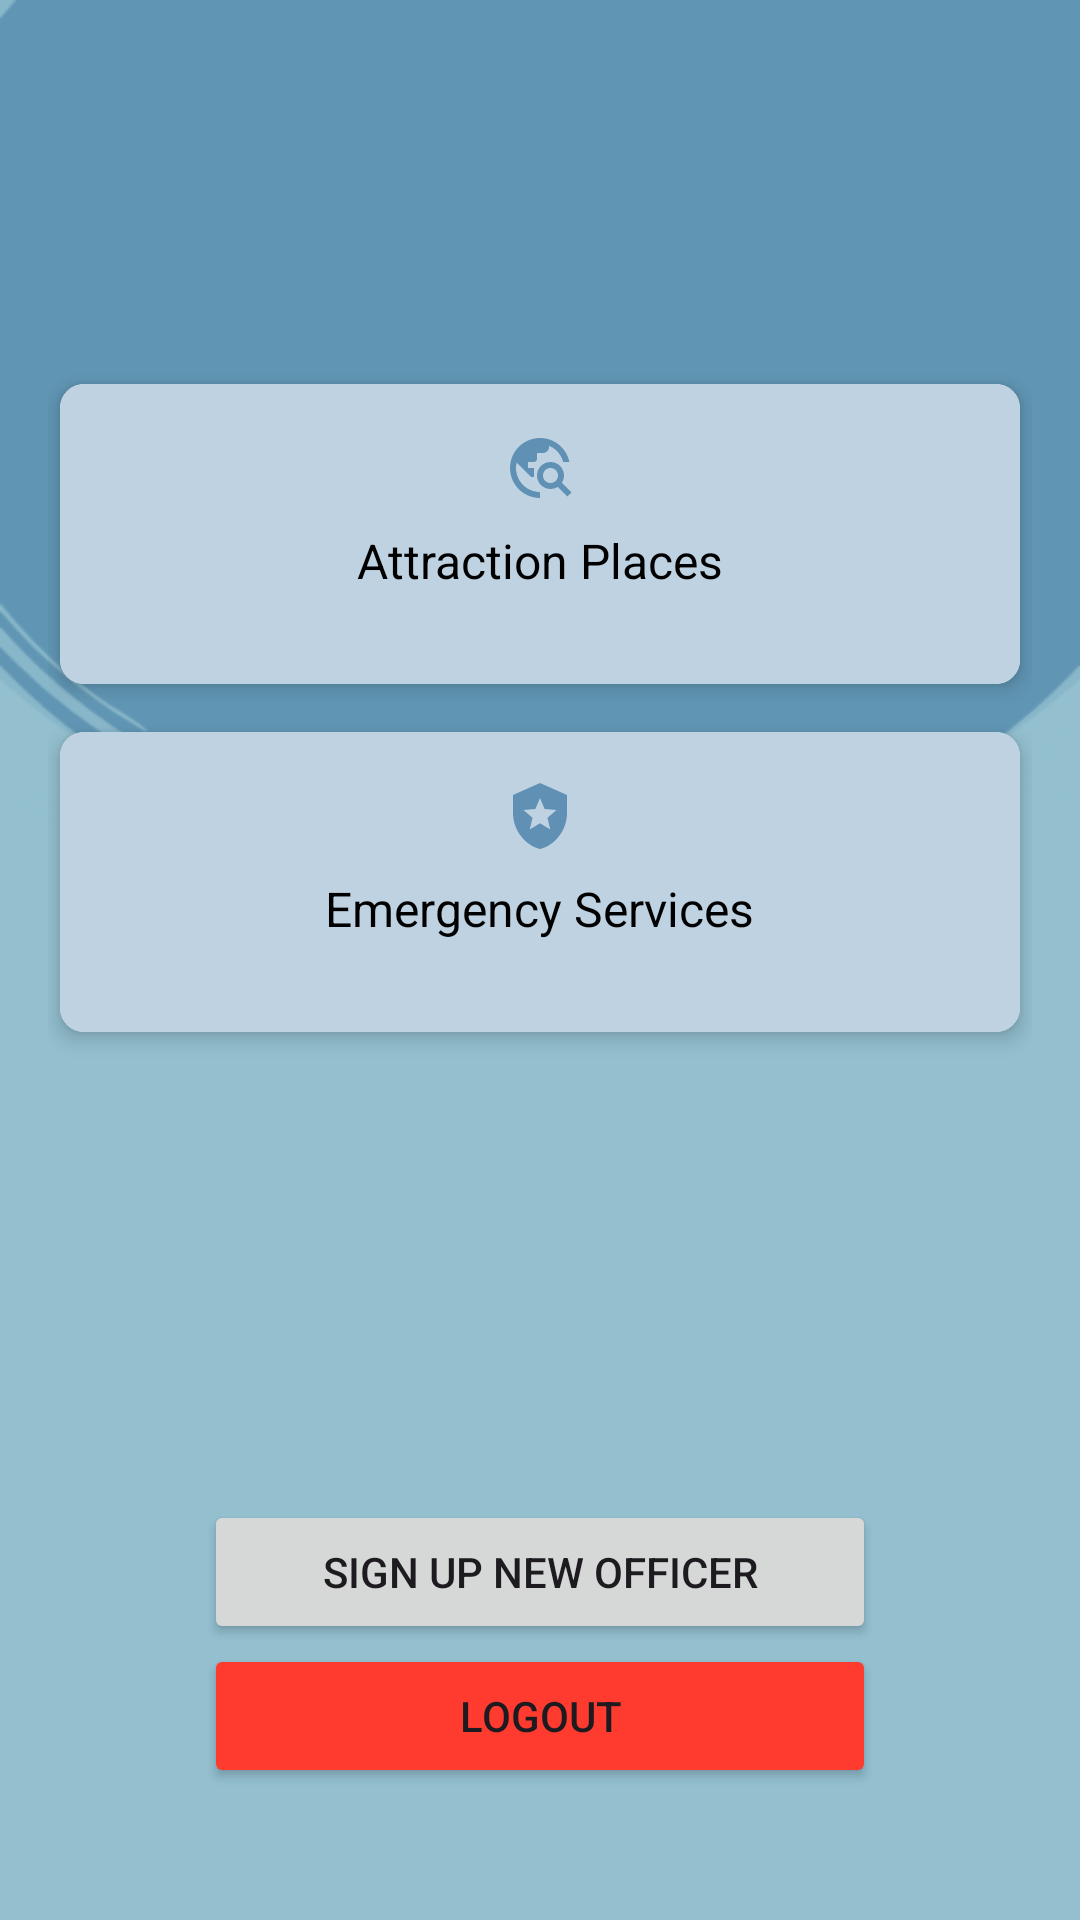

Where icons sit on this 1080*1920 app screen, as (x1, y1, x2, y2):
Place Icon: (510, 438, 571, 498)
